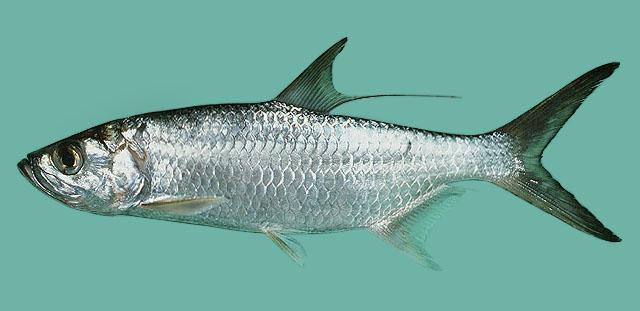Mulut: (8, 140, 52, 202)
Sirip Anal: (372, 182, 474, 278)
Sirip Dada: (140, 190, 232, 226)
Sirip Ekor: (502, 57, 632, 247)
Sirip Perut: (255, 219, 321, 267)
Sirip Punggung: (270, 31, 468, 120)
